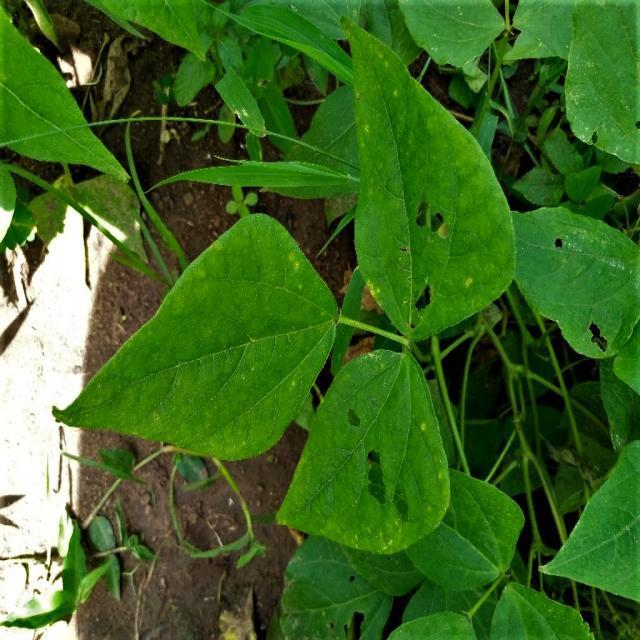embun tepung: (563, 73, 640, 166), (551, 220, 634, 273)
hawar: (334, 398, 414, 530), (406, 186, 453, 339), (578, 313, 619, 359)
mozaik: (360, 67, 452, 176)
sehat: (165, 309, 295, 419)
